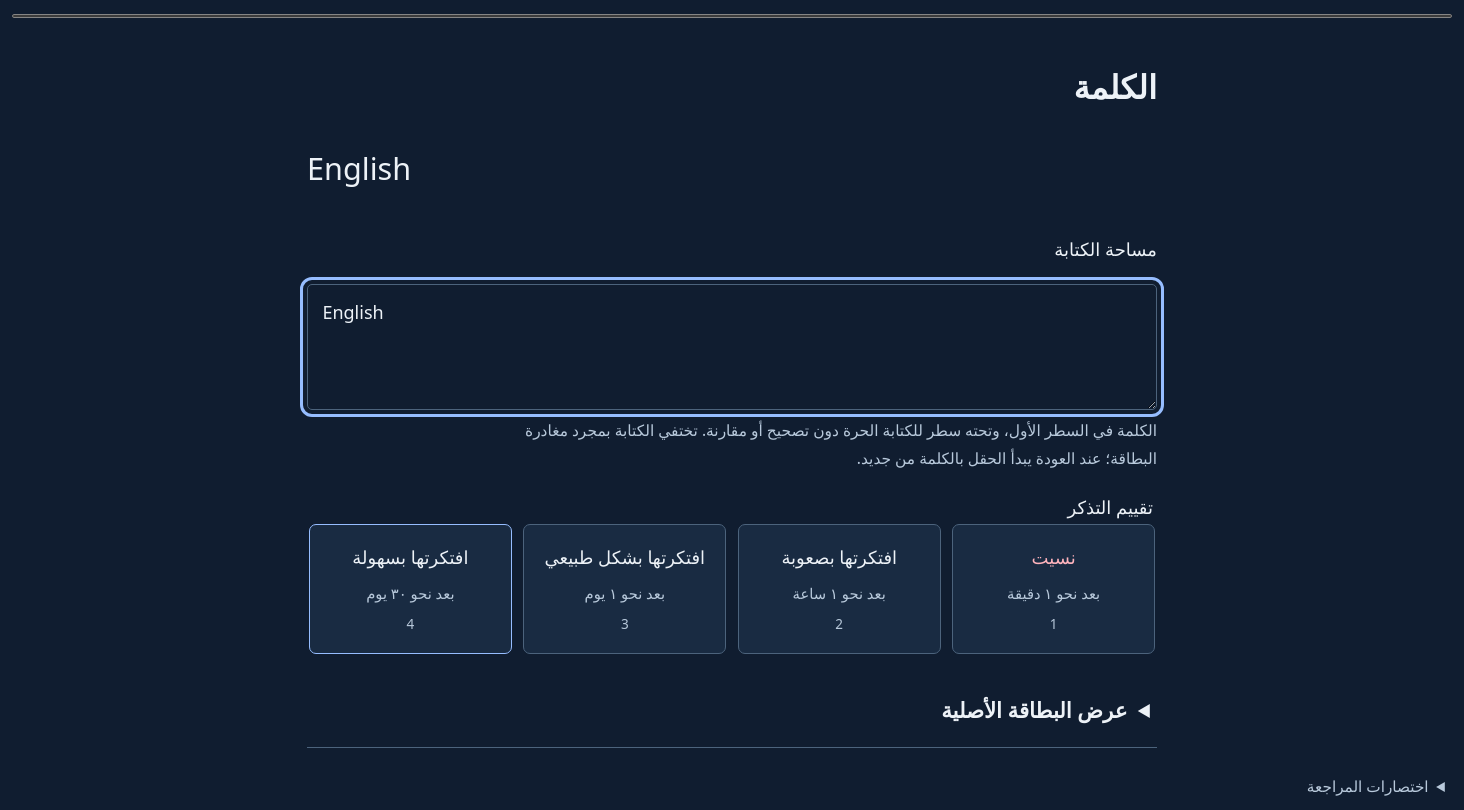
Scenario: never shows a previous word source when its deferred response resolves after advancement
(page scrolled)
Click the heading "عرض البطاقة الأصلية".
click(1034, 710)  # box [941,695,1127,724]
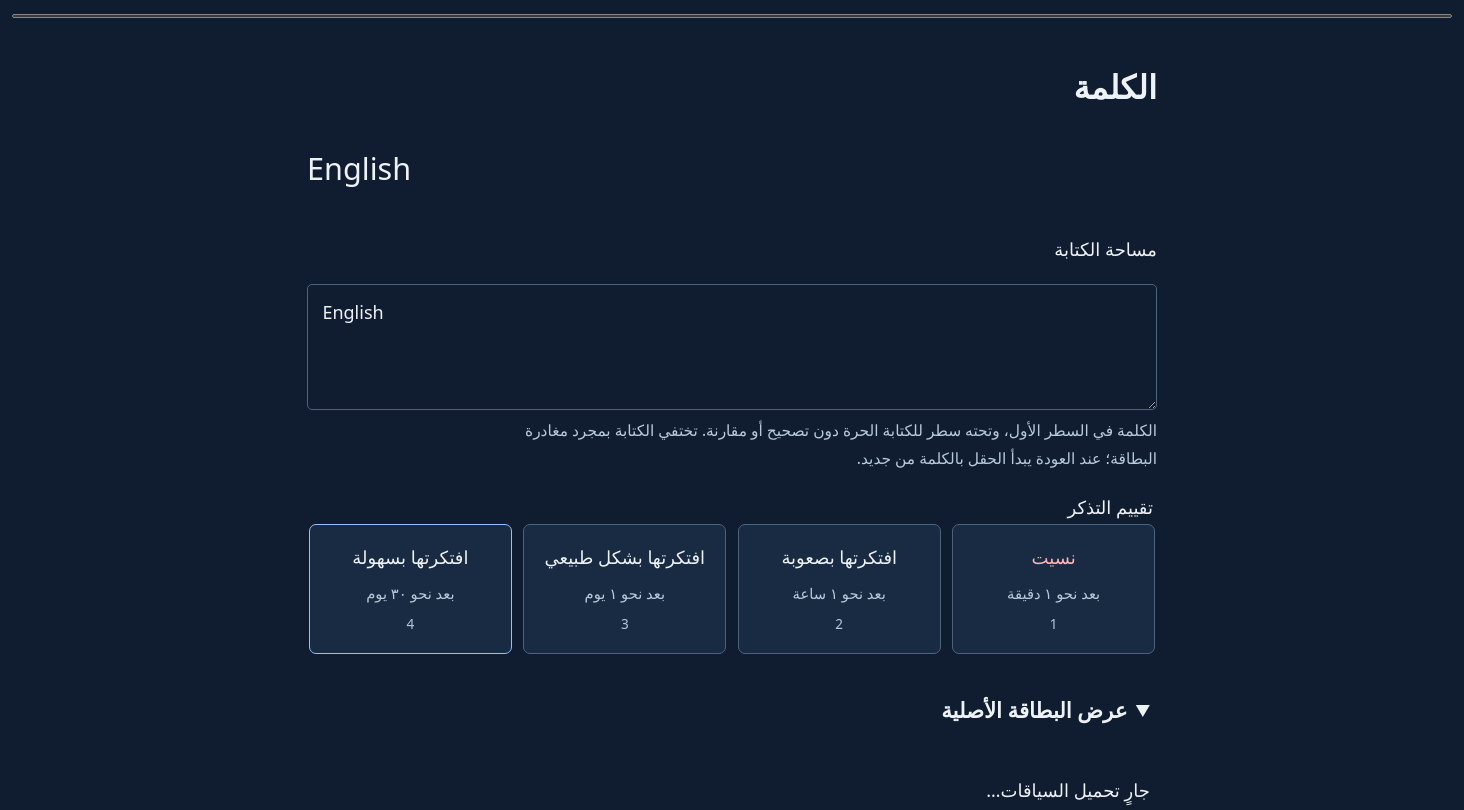
Result: the text "جارٍ تحميل السياقات…" is shown at [986,778,1150,802]
Click the button "افتكرتها بسهولة بعد نحو ٣٠ يوم 4".
click(410, 589)  # box [309,524,512,654]
(page scrolled)
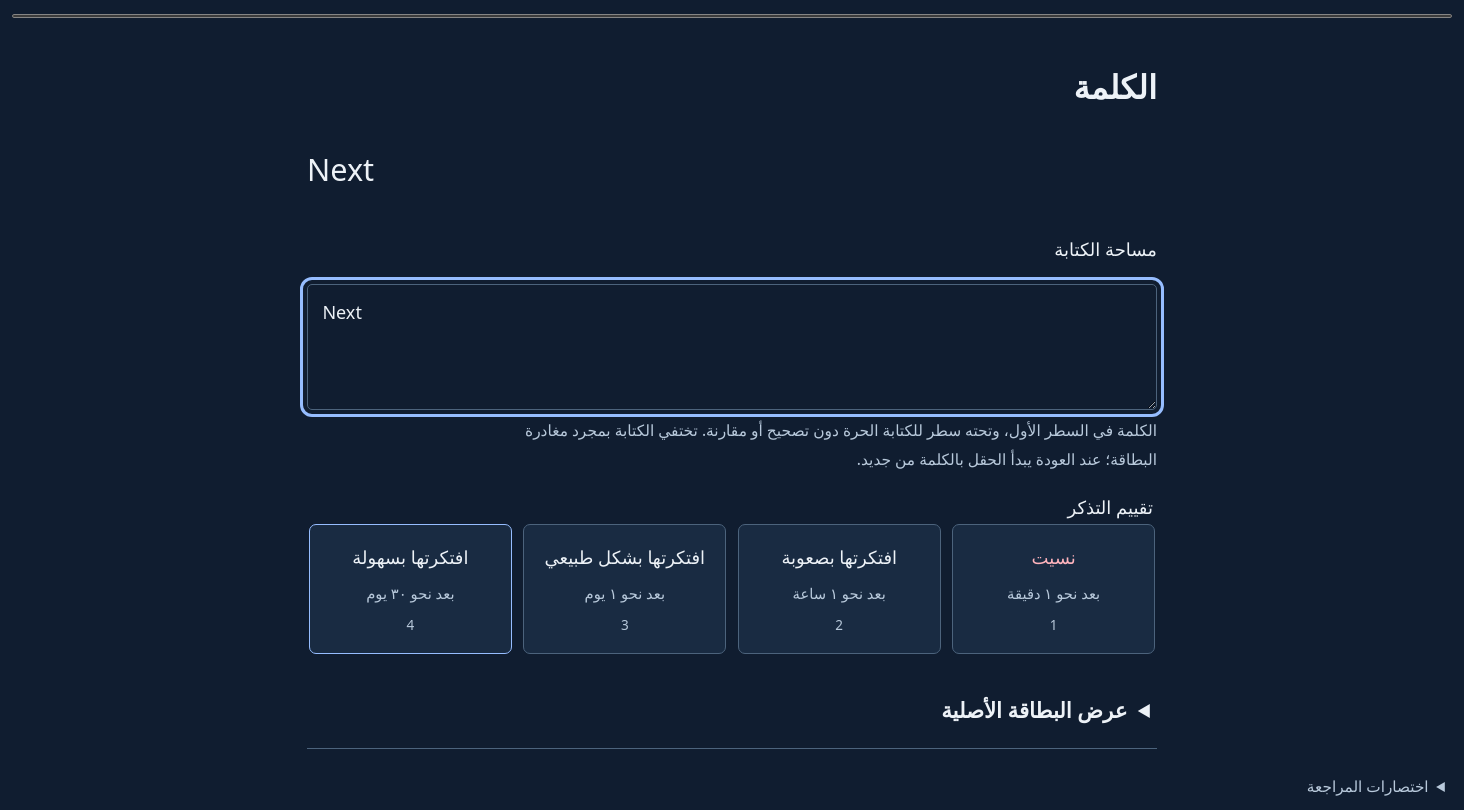
Result: the text "Next" is shown at [307,148,374,190]
